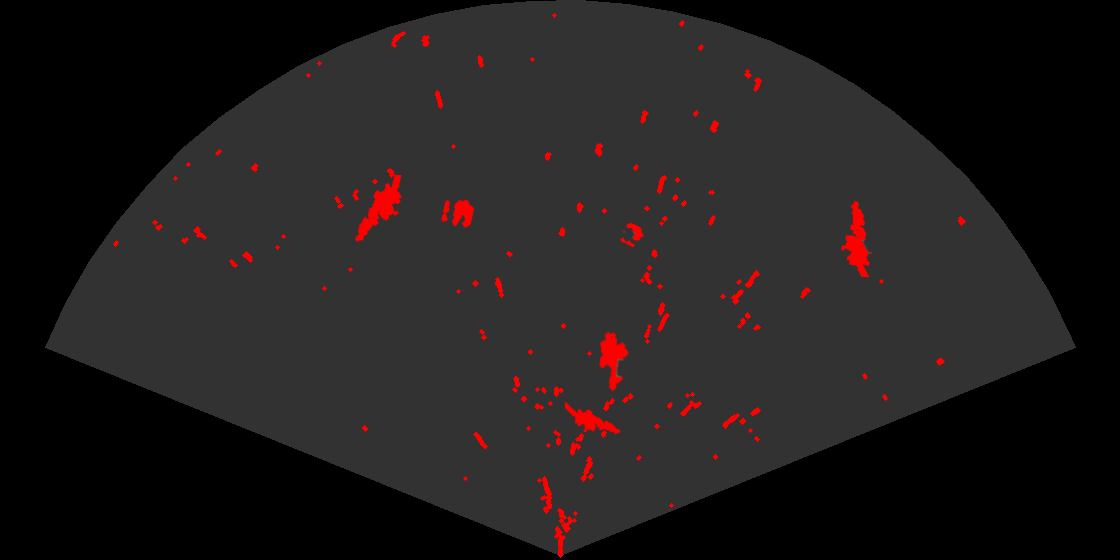AUV: (597, 330, 630, 393)
ball: (440, 198, 476, 230), (618, 221, 645, 249)
frogman: (354, 175, 403, 244), (840, 200, 874, 277), (565, 400, 622, 436)
